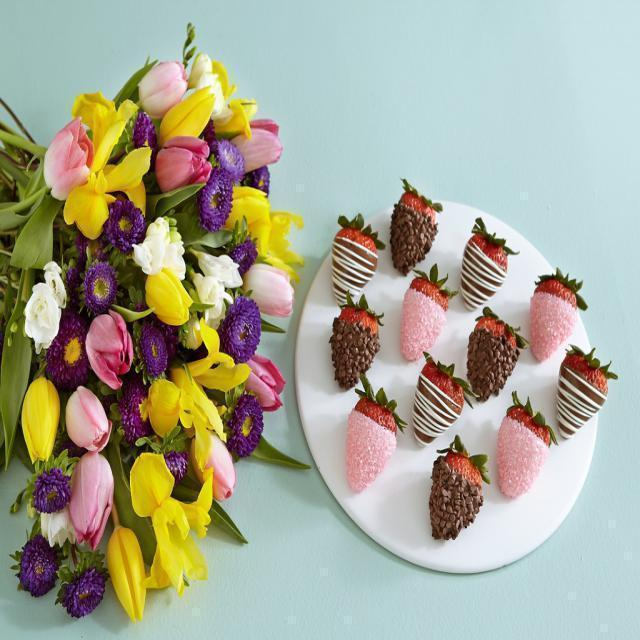Strawberry: (342, 372, 412, 495), (424, 430, 490, 540), (398, 257, 459, 365), (408, 350, 472, 450), (323, 288, 383, 394), (556, 341, 618, 442), (470, 300, 528, 406), (327, 210, 385, 311), (530, 267, 589, 360), (456, 218, 518, 304), (390, 174, 438, 278)
